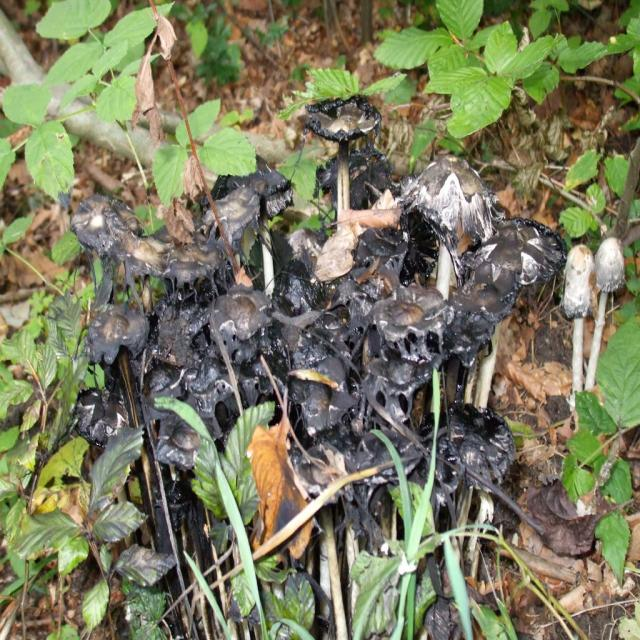Mushroom: (410, 157, 488, 412), (467, 220, 557, 421), (588, 238, 632, 400), (560, 245, 596, 400)
